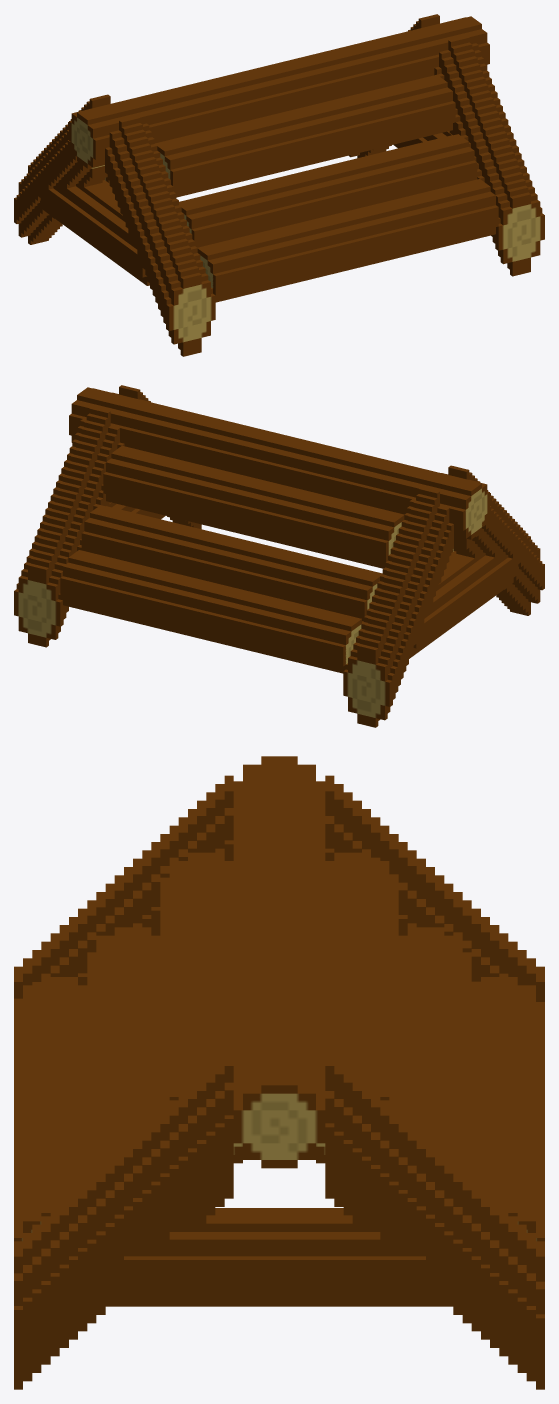
Rendered from Roof.fbx.
The picture shows the model from 3 angles, top to bottom: view 1: azimuth 30°, elevation 25°; view 2: azimuth 150°, elevation 25°; view 3: azimuth 270°, elevation 25°; orthographic projection. The views are drawn at different scales.
Visible parts, largest first — view 1: Roof; view 2: Roof; view 3: Roof.
Boxes of the visible parts, x1,y1,x2,y2 form: Roof: (14, 14, 544, 356); Roof: (14, 385, 544, 727); Roof: (14, 756, 544, 1389).
Bounding box in the file's own units: 85 × 39 × 58.
1 material, 1 textured.
